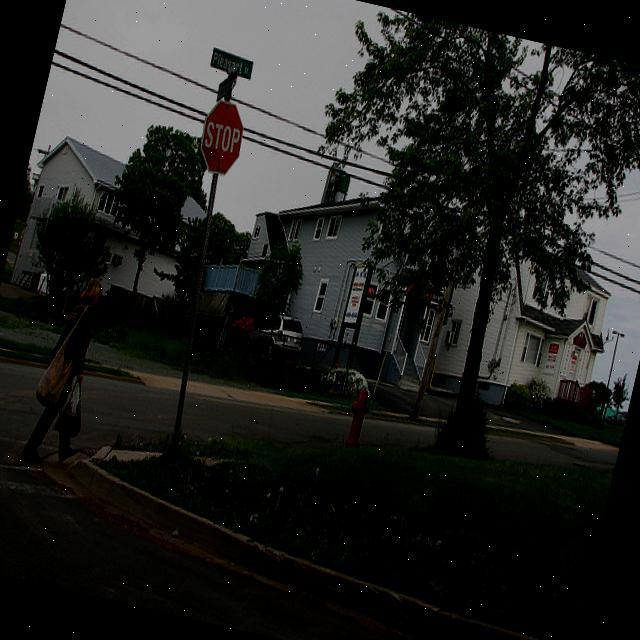fire_hydrant: (341, 383, 374, 452)
